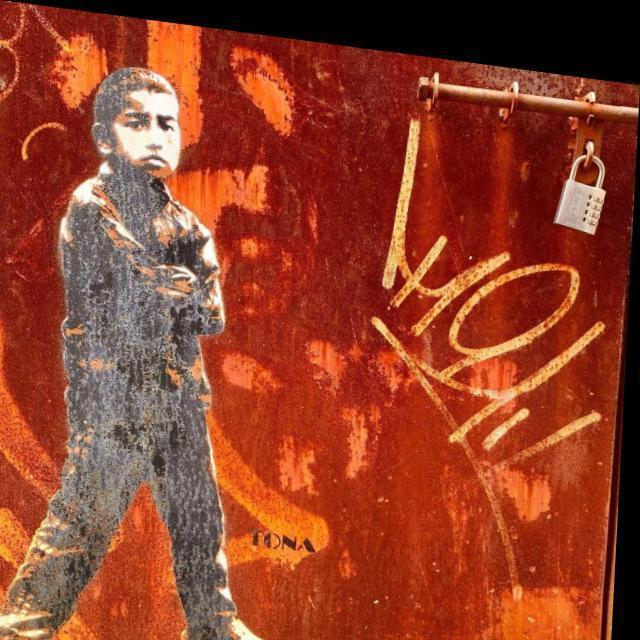nonspitting: (369, 118, 604, 604)
spitting: (0, 66, 260, 640)
